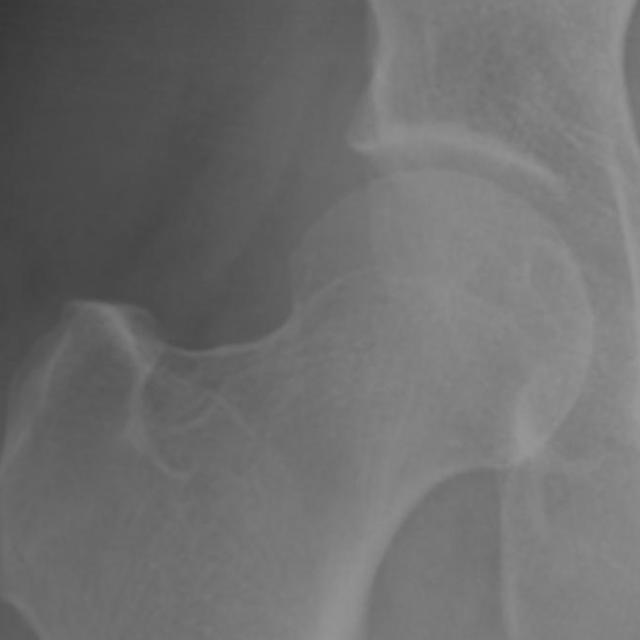Fitted_femural_head: (319, 170, 432, 319)
